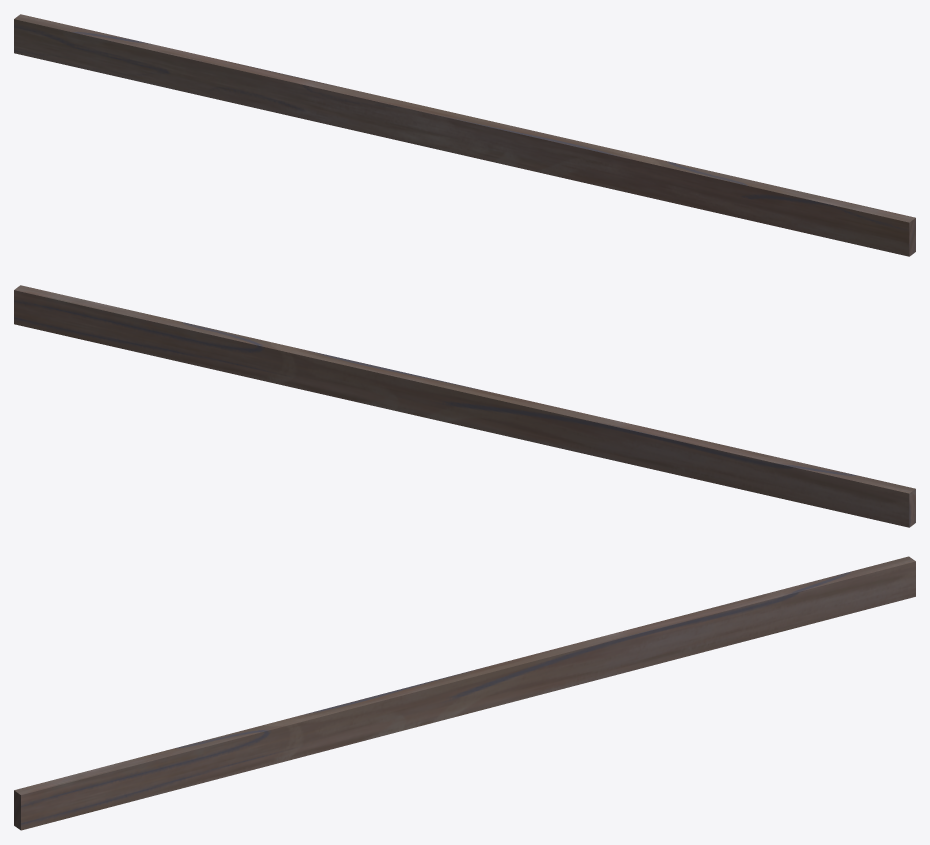
Rendered from long_board_027.fbx.
3 views of the same model, one above another, from view 1: azimuth 30°, elevation 25°; view 2: azimuth 210°, elevation 25°; view 3: azimuth 270°, elevation 25° (orthographic). The views are drawn at different scales.
Parts seen in each view (by area): view 1: long board.027; view 2: long board.027; view 3: long board.027.
Part boxes in pixels (x1=…): long board.027: x1=14, y1=14, x2=915, y2=256; long board.027: x1=14, y1=285, x2=915, y2=527; long board.027: x1=14, y1=556, x2=915, y2=830.
Bounding box in the file's own units: 147 × 10.16 × 235.
